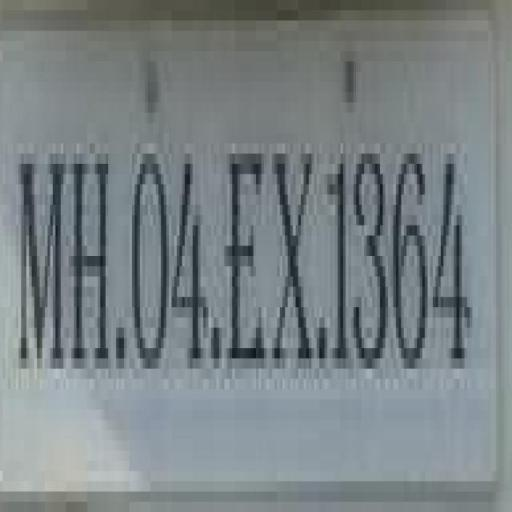number plate: (0, 0, 483, 450)
